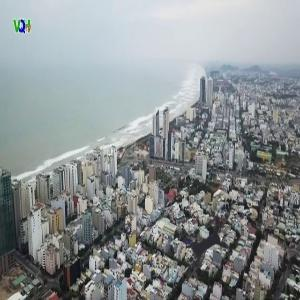drone: (147, 181, 267, 300)
